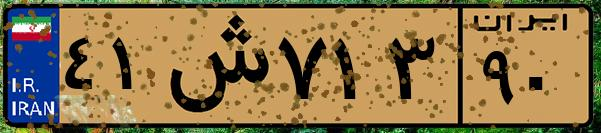0: (525, 38, 570, 115)
1: (330, 28, 385, 110), (110, 28, 158, 98)
3: (385, 28, 445, 110)
4: (57, 26, 110, 100)
7: (270, 28, 330, 110)
9: (475, 38, 525, 113)
ش: (158, 12, 270, 120)
